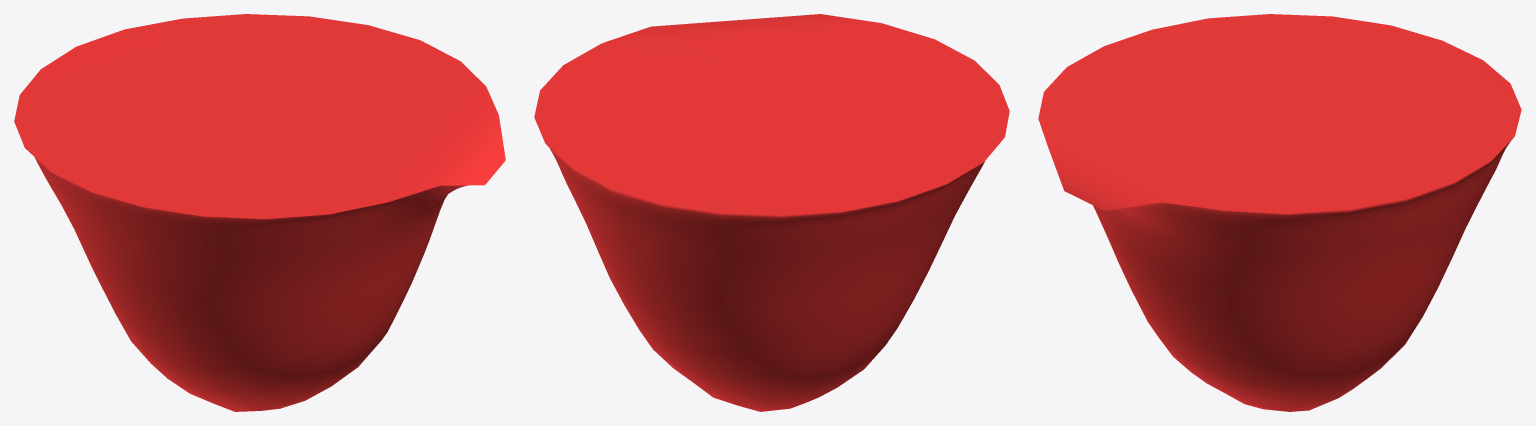
File: 301_inner9.fbx
The picture shows the model from 3 angles, left to right: view 1: azimuth 30°, elevation 25°; view 2: azimuth 150°, elevation 25°; view 3: azimuth 270°, elevation 25°; orthographic projection.
Parts seen in each view (by area): view 1: 303_seal_invert; view 2: 303_seal_invert; view 3: 303_seal_invert.
Boxes of the visible parts, x1,y1,x2,y2 form: 303_seal_invert: (14,14,505,411); 303_seal_invert: (534,14,1009,411); 303_seal_invert: (1038,14,1521,411).
Size of the model in its own units: 0.1331 by 0.1343 by 0.0888.
